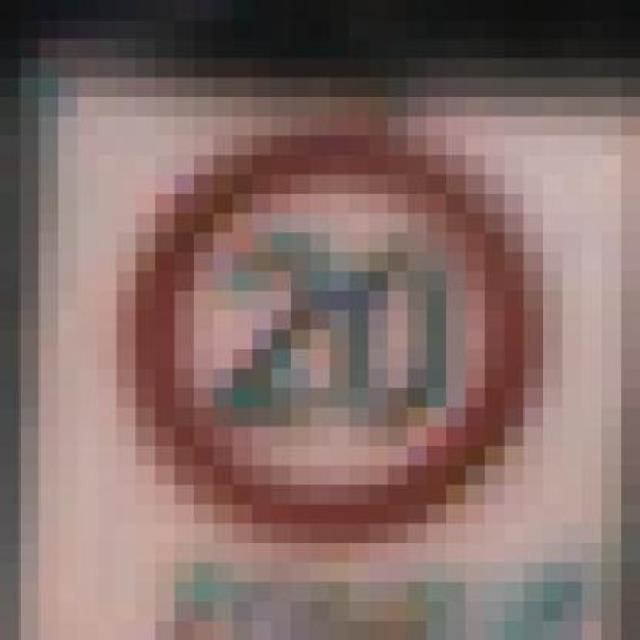forb_speed_over_20: (138, 138, 536, 535)
